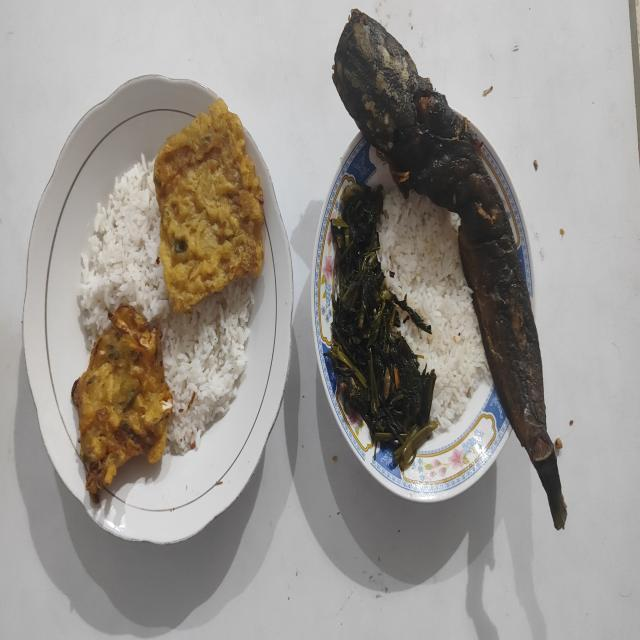nasi_putih: (78, 158, 255, 454), (378, 189, 491, 430)
tumis_kangkung: (324, 184, 438, 471)
